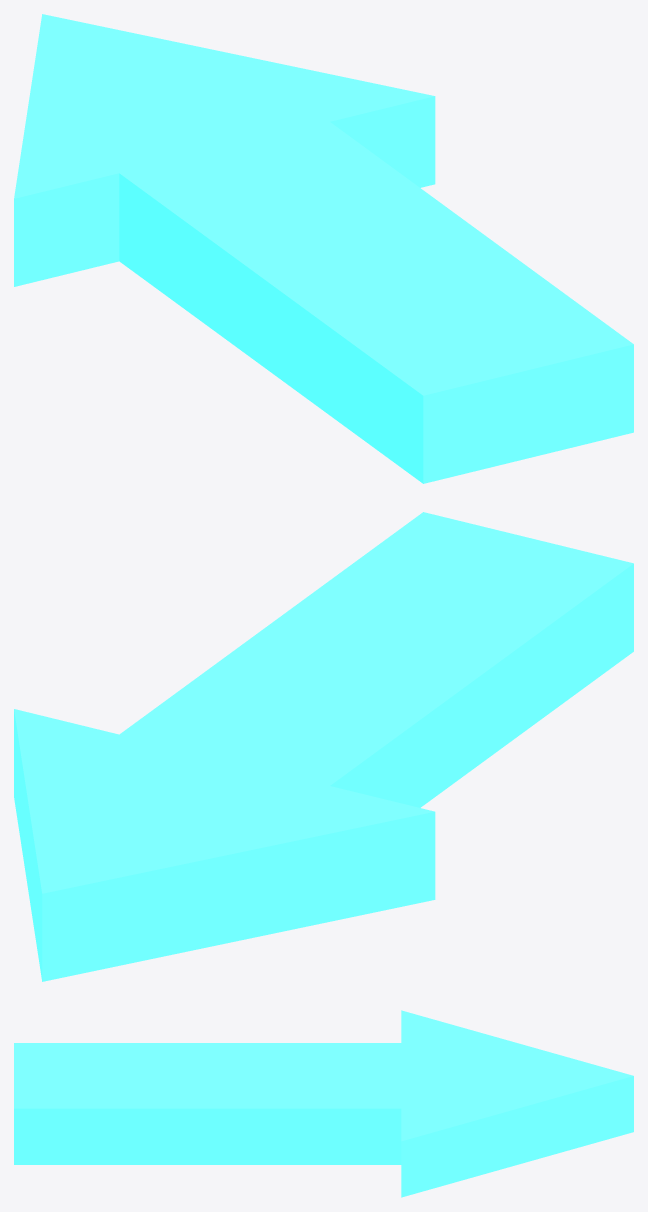
The model's file is Arrow.fbx.
3 renders of one model, top to bottom at view 1: azimuth 30°, elevation 25°; view 2: azimuth 150°, elevation 25°; view 3: azimuth 270°, elevation 25°, orthographic. The views are drawn at different scales.
Parts seen in each view (by area): view 1: Plane; view 2: Plane; view 3: Plane.
Boxes of the visible parts, x1,y1,x2,y2 form: Plane: [14, 14, 633, 483]; Plane: [14, 512, 633, 981]; Plane: [14, 1010, 633, 1197].
Size of the model in its own units: 50 by 100 by 10.
